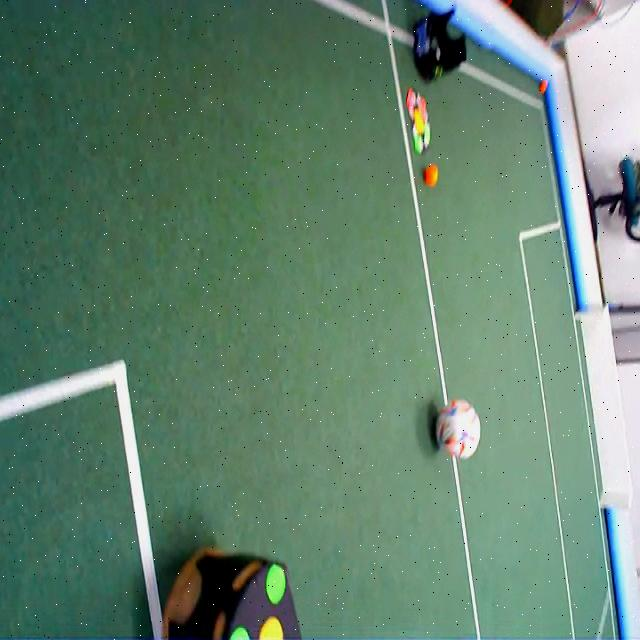ball: (435, 398, 481, 458)
